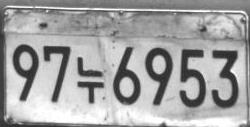3: (211, 49, 239, 109)
5: (179, 48, 207, 107)
6: (112, 46, 142, 105)
7: (42, 45, 72, 102)
9: (144, 46, 174, 106), (12, 43, 39, 102)
누: (77, 56, 104, 104)
